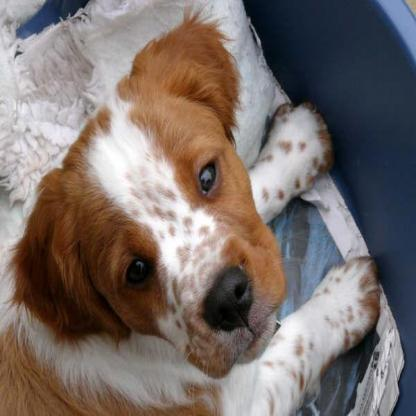Brittany_spaniel: (0, 0, 379, 413)
